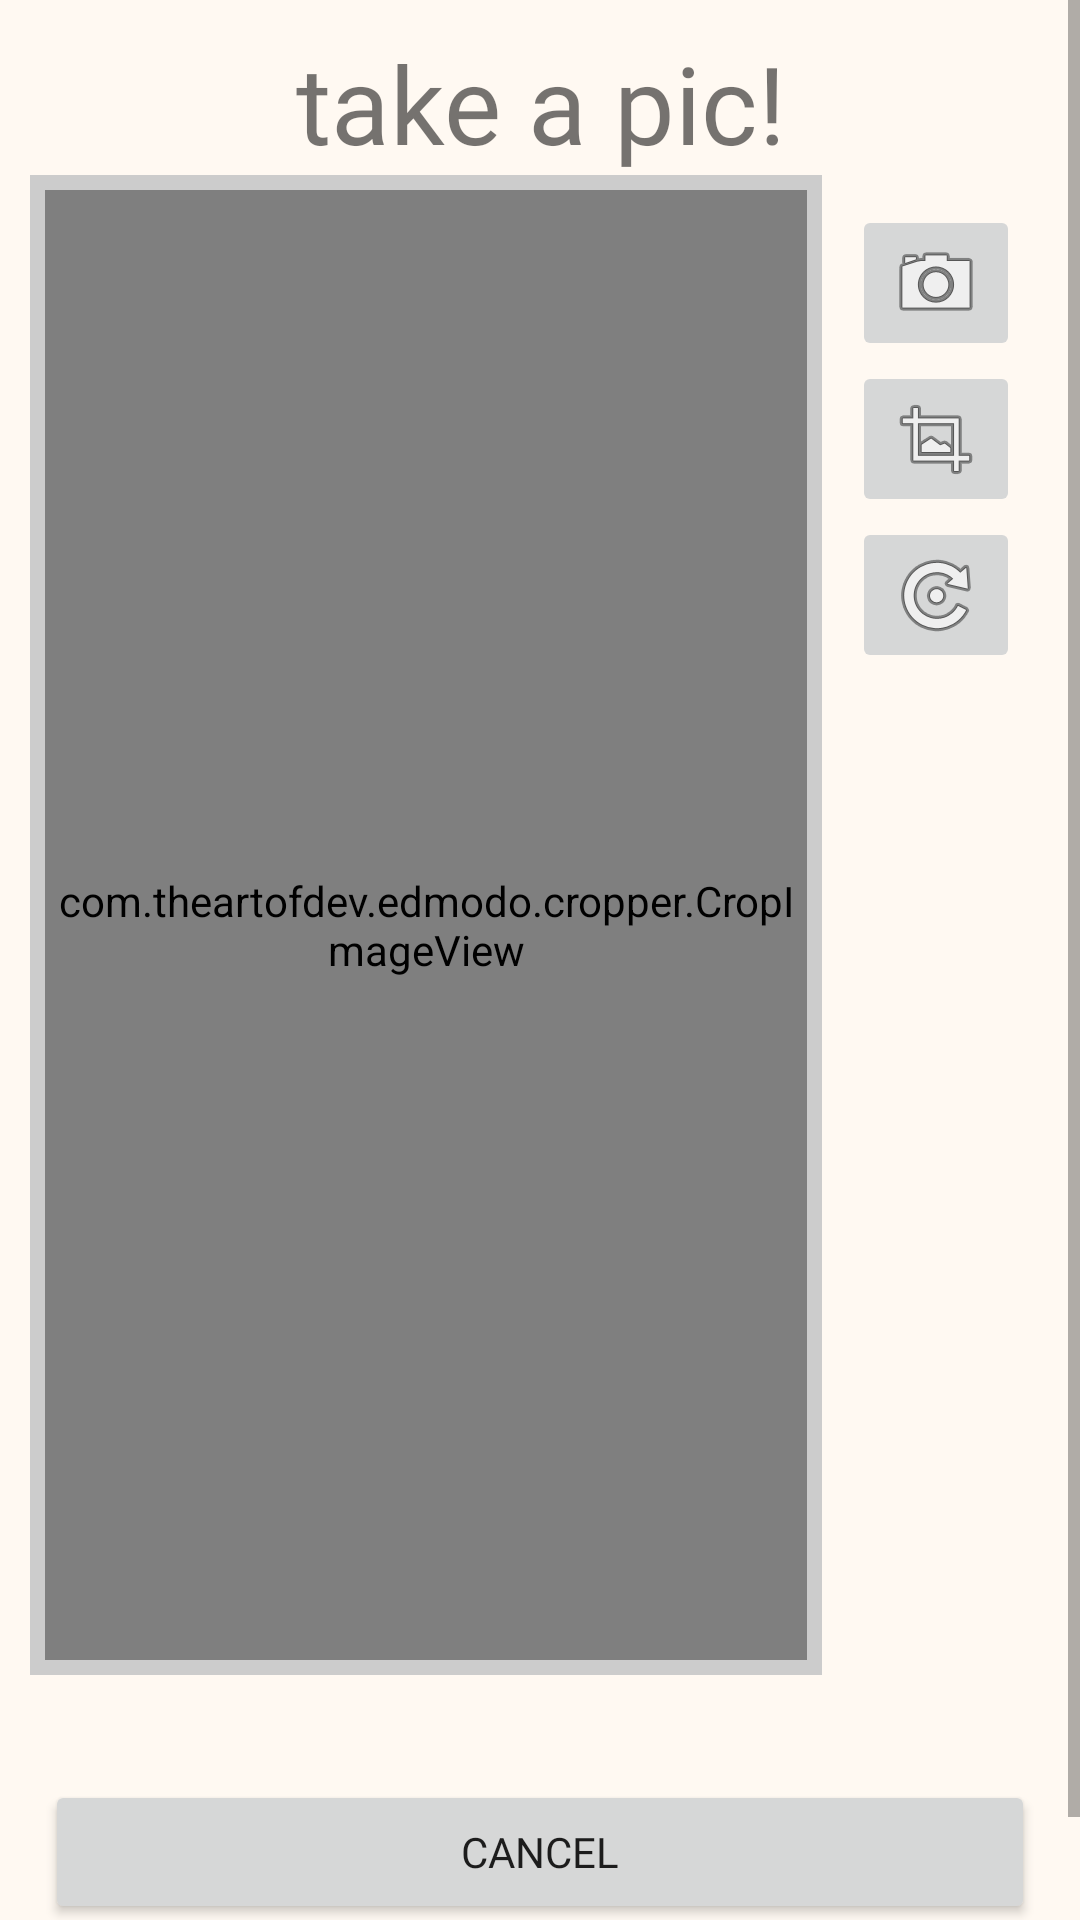

Screen size 1080 x 1920. Icon name, then its box in pixels as [x1=x1, y1=y1, x2=x2, y2=y2]:
camera: [x1=864, y1=223, x2=1008, y2=343]
rotate: [x1=864, y1=535, x2=1008, y2=655]
